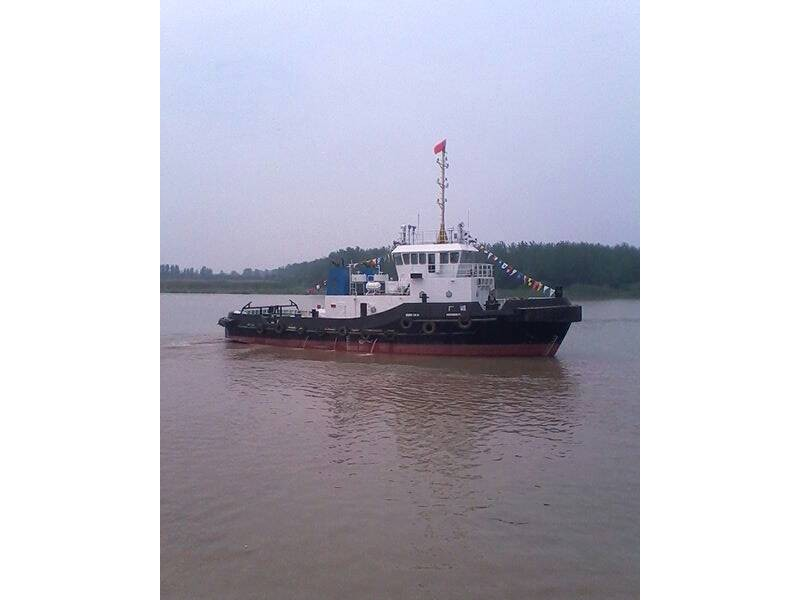otherboat: (213, 156, 585, 356)
